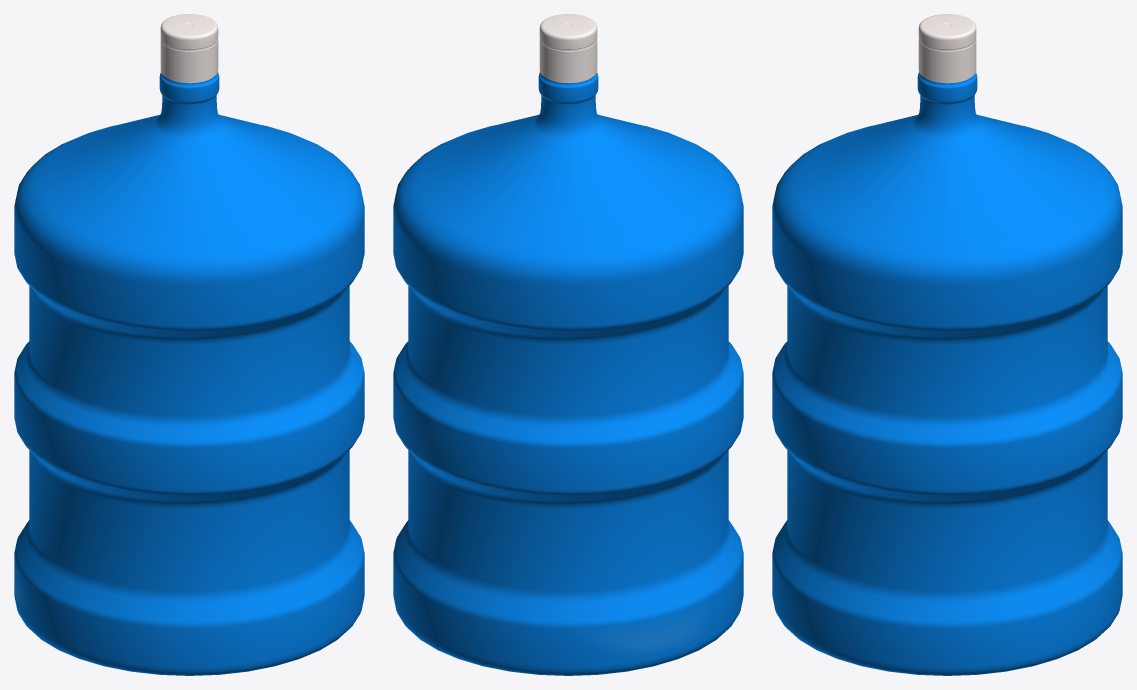
File: BigWaterBottle.fbx
3 views of the same model, side by side, from view 1: azimuth 30°, elevation 25°; view 2: azimuth 150°, elevation 25°; view 3: azimuth 270°, elevation 25° (orthographic).
Parts seen in each view (by area): view 1: BigWaterBottle; view 2: BigWaterBottle; view 3: BigWaterBottle.
Part boxes in pixels (bbox=[...]): BigWaterBottle: bbox=[14, 14, 364, 675]; BigWaterBottle: bbox=[393, 14, 743, 675]; BigWaterBottle: bbox=[772, 14, 1122, 675].
Bounding box in the file's own units: 0.2237 × 0.4089 × 0.2237.
